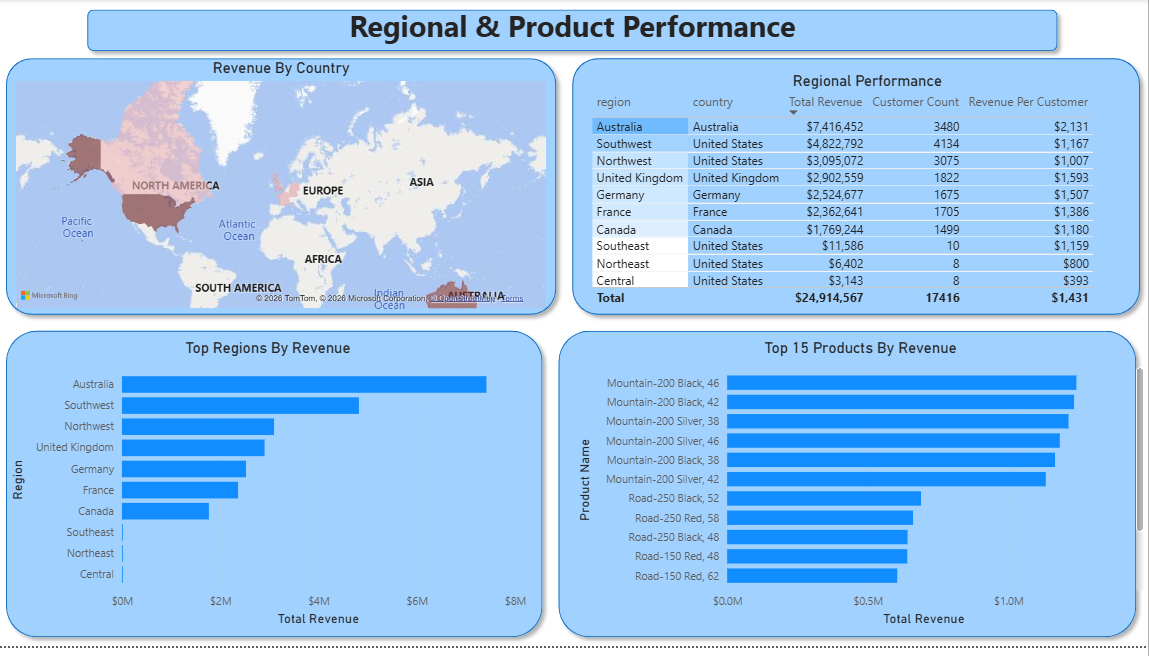

Layout of this report page (visuals, bound fields, positions):
{"tool":"powerbi","page":{"name":"Part 3","canvas":[1280,720],"ordinal":2},"visuals":[{"type":"shape","box":[90.4,2.8,1097.7,64],"z":0},{"type":"shape","box":[0,57,630.3,303.3],"z":1000},{"type":"shape","box":[630.3,57,649.7,303.3],"z":2000},{"type":"shape","box":[0,360.3,615,359],"z":3000},{"type":"shape","box":[615,360.3,660.9,359],"z":4000},{"type":"filledMap","title":"Revenue By Country","fields":{"Category":["territories.country"]},"box":[15.3,66.8,599.7,282.4],"z":5000},{"type":"barChart","title":"Top Regions By Revenue","fields":{"Category":["territories.region"],"Y":["_Measures.Total Revenue"]},"box":[8.3,378.4,584.3,324.2],"z":6000},{"type":"tableEx","title":"Regional Performance","fields":{"Values":["territories.region","territories.country","_Measures.Total Revenue","_Measures.Unique Customer Count","_Measures.Revenue Per Customer"]},"box":[655.3,80.7,624.7,267.1],"z":7000},{"type":"barChart","title":"Top 15 Products By Revenue","fields":{"Category":["products.product_name"],"Y":["_Measures.Total Revenue"]},"box":[640,378.4,640,324.2],"z":8000},{"type":"textbox","box":[112.7,2.8,1053.2,54.3],"z":9000}]}

Visuals, with their boxes in screenshot pixels (x1, y1, x2, y2), scaled from the page's 1280x720 canvas onto the 1149x656 screenshot:
shape: crop(81, 3, 1067, 61)
shape: crop(0, 52, 566, 328)
shape: crop(566, 52, 1148, 328)
shape: crop(0, 328, 552, 655)
shape: crop(552, 328, 1145, 655)
"Revenue By Country" filledMap: crop(14, 61, 552, 318)
"Top Regions By Revenue" barChart: crop(7, 345, 532, 640)
"Regional Performance" tableEx: crop(588, 74, 1148, 317)
"Top 15 Products By Revenue" barChart: crop(574, 345, 1148, 640)
textbox: crop(101, 3, 1047, 52)
